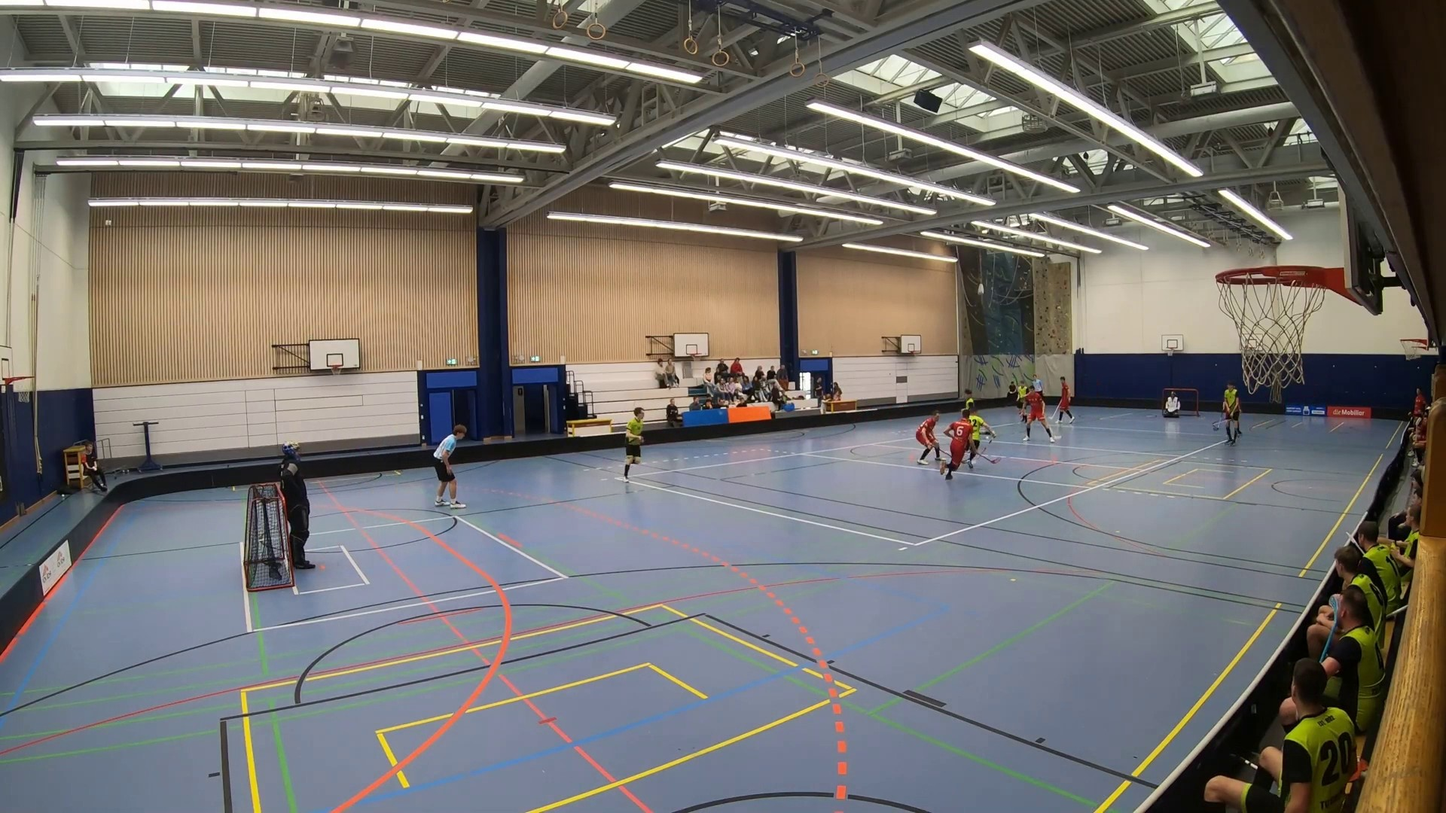ball: (977, 282, 984, 296)
goalkeeper: (279, 440, 315, 568), (1162, 391, 1180, 418)
player: (939, 409, 972, 479), (1023, 387, 1056, 442), (966, 410, 994, 467), (915, 409, 939, 464), (624, 407, 642, 479), (1222, 381, 1240, 444), (1057, 376, 1074, 422), (1016, 382, 1028, 422), (964, 388, 974, 410)
